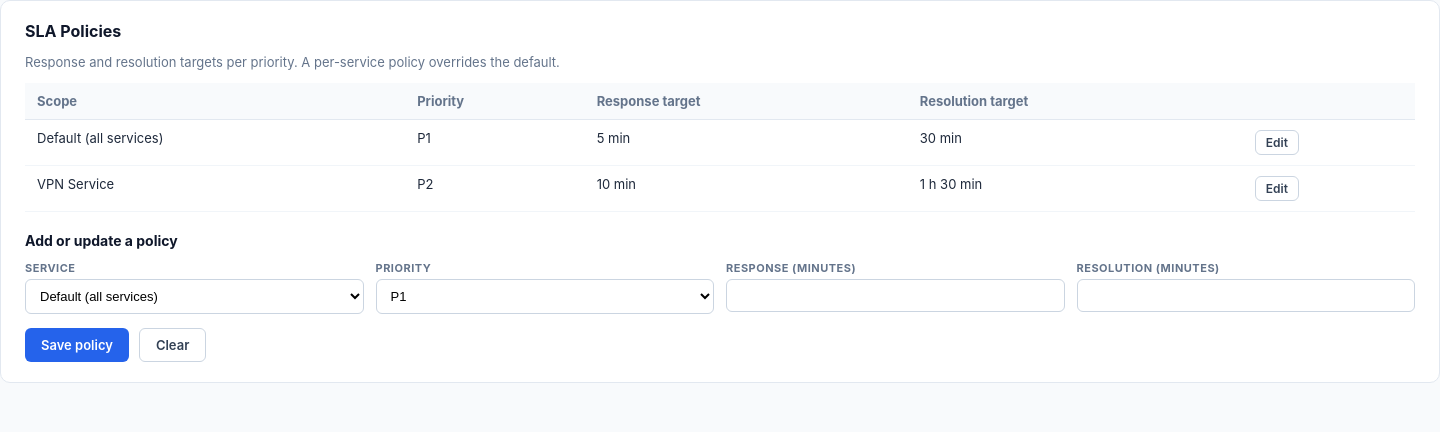
Scenario: SlaPoliciesPanel › shows the backend error when saving fails
Type "2" into the number field labelled "Response (minutes)". click: (895, 296)
box: [726,279,1064,312]
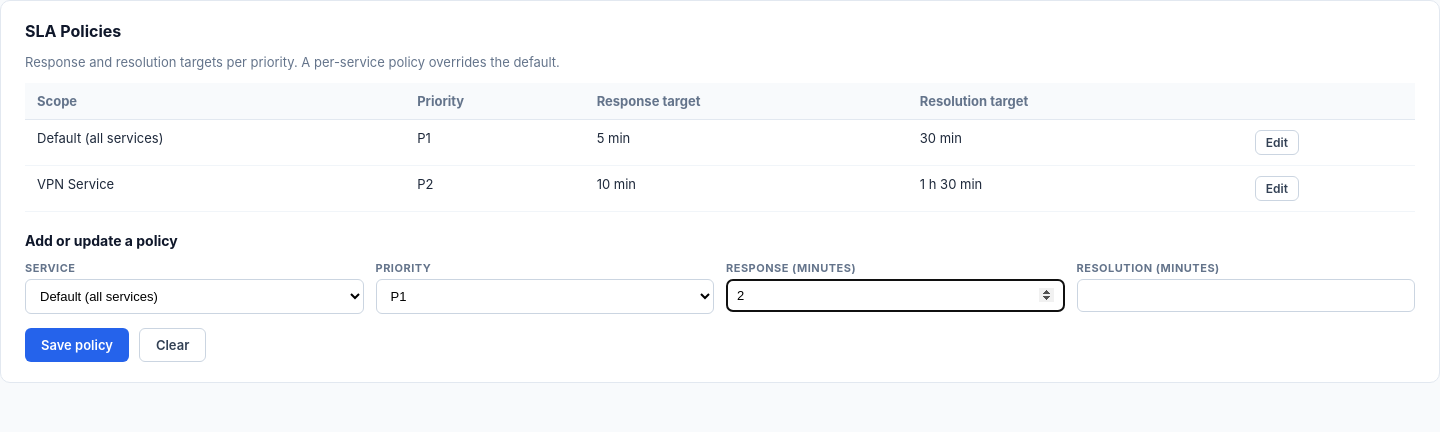
Type "20" into the number field labelled "Resolution (minutes)". click: (1246, 296)
box: [1076,279,1415,312]
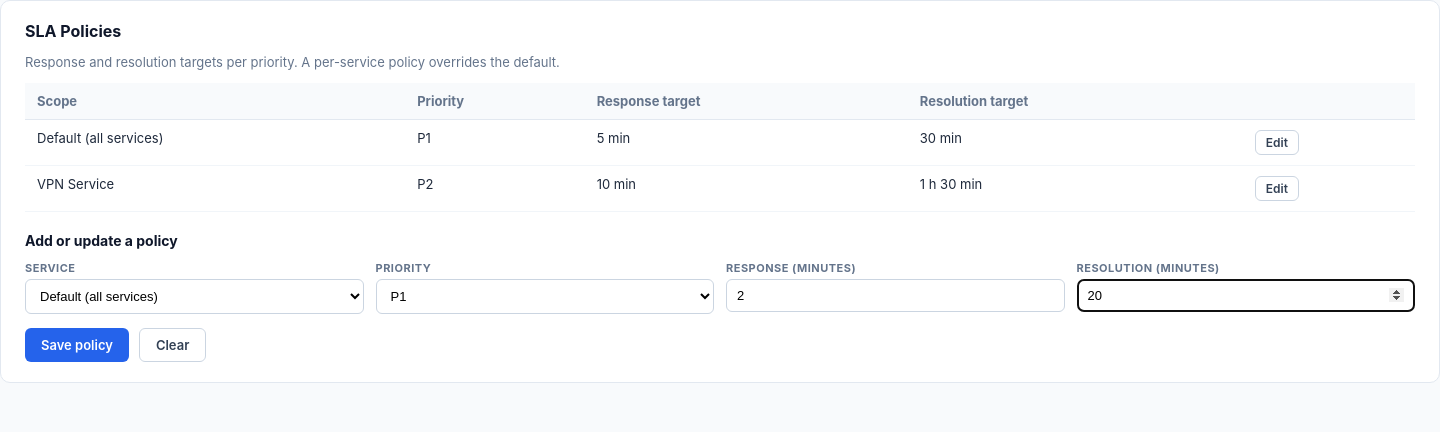
Click the button "Save policy". click: click(77, 345)
box: [25,328,129,362]
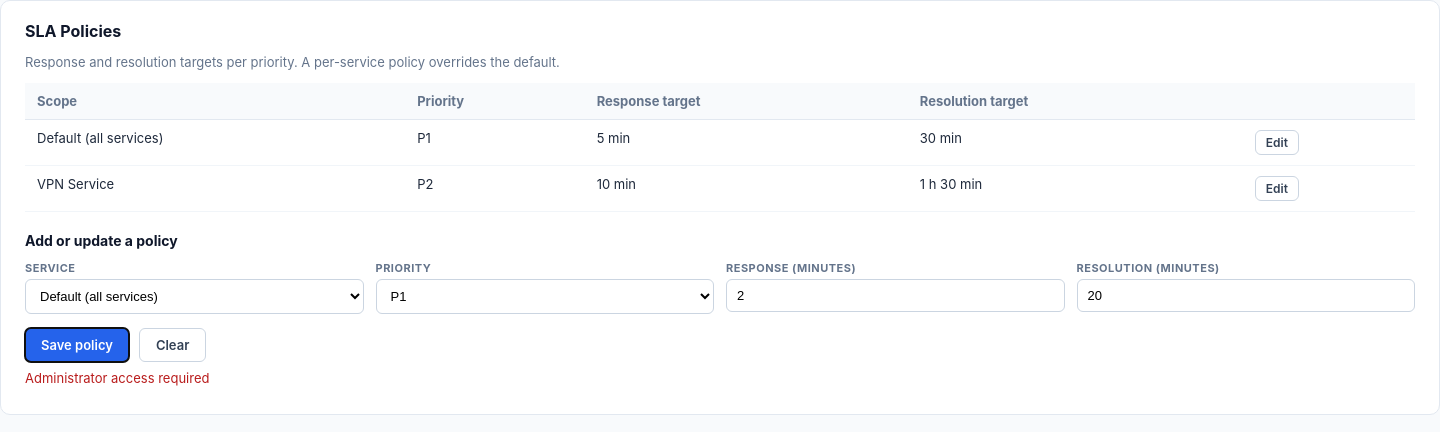
expect the message reads "Administrator access required": met, box [25,370,210,386]
